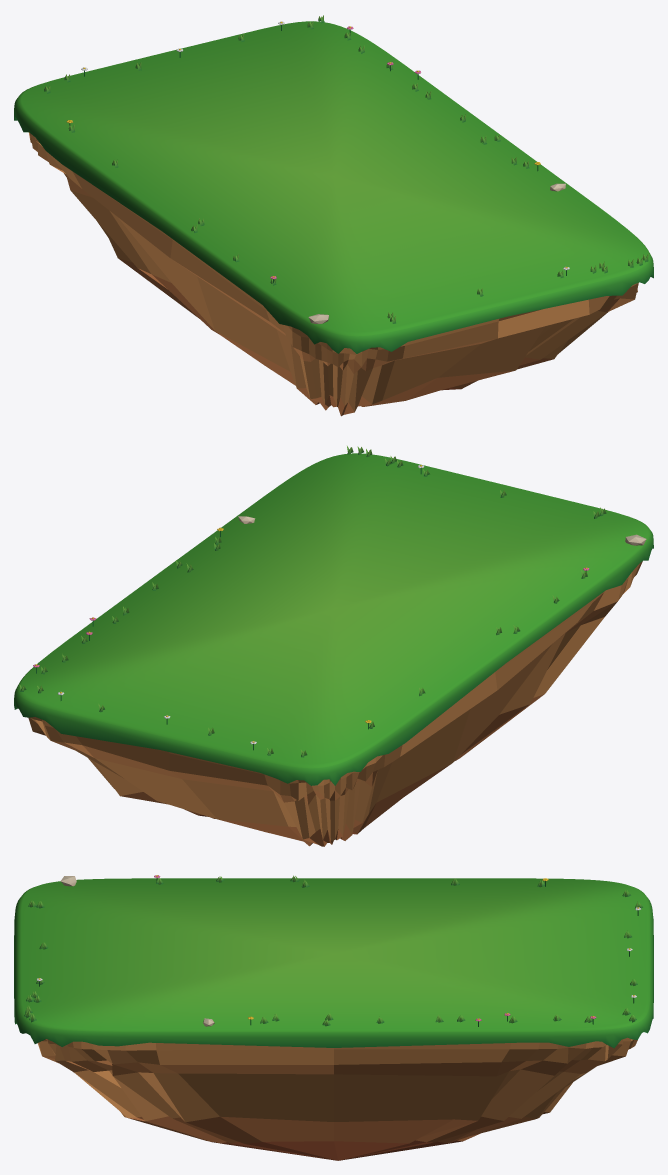
The model's file is PLAT_Isle_XL.glb.
3 views of the same model, one above another, from view 1: azimuth 30°, elevation 25°; view 2: azimuth 150°, elevation 25°; view 3: azimuth 270°, elevation 25° (orthographic). The views are drawn at different scales.
Parts seen in each view (by area): view 1: Ground; view 2: Ground; view 3: Ground.
Part boxes in pixels (x1,y1,x2,y2): Ground: [14, 15, 653, 416]; Ground: [14, 446, 653, 846]; Ground: [14, 875, 653, 1160].
Bounding box in the file's own units: 8.19 × 5.26 × 14.34.
